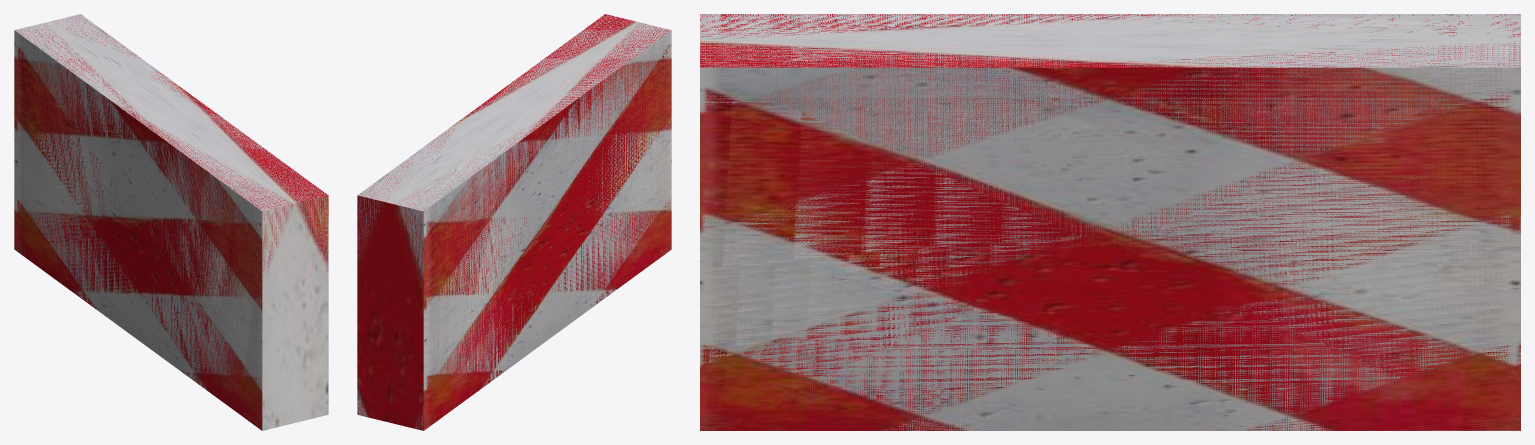
Rendered from block.fbx.
3 views of the same model, side by side, from view 1: azimuth 30°, elevation 25°; view 2: azimuth 150°, elevation 25°; view 3: azimuth 270°, elevation 25° (orthographic). The views are drawn at different scales.
Parts seen in each view (by area): view 1: Cube; view 2: Cube; view 3: Cube.
Boxes of the visible parts, x1=… form: Cube: x1=14, y1=14, x2=328, y2=430; Cube: x1=357, y1=14, x2=671, y2=430; Cube: x1=700, y1=14, x2=1520, y2=430.
Bounding box in the file's own units: 63.24 × 200 × 409.
1 material, 1 textured.
